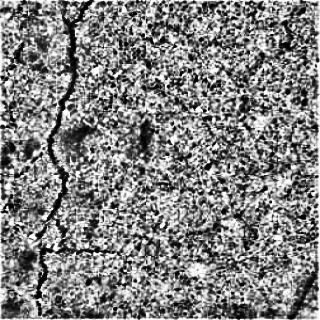crack: (30, 0, 96, 320)
